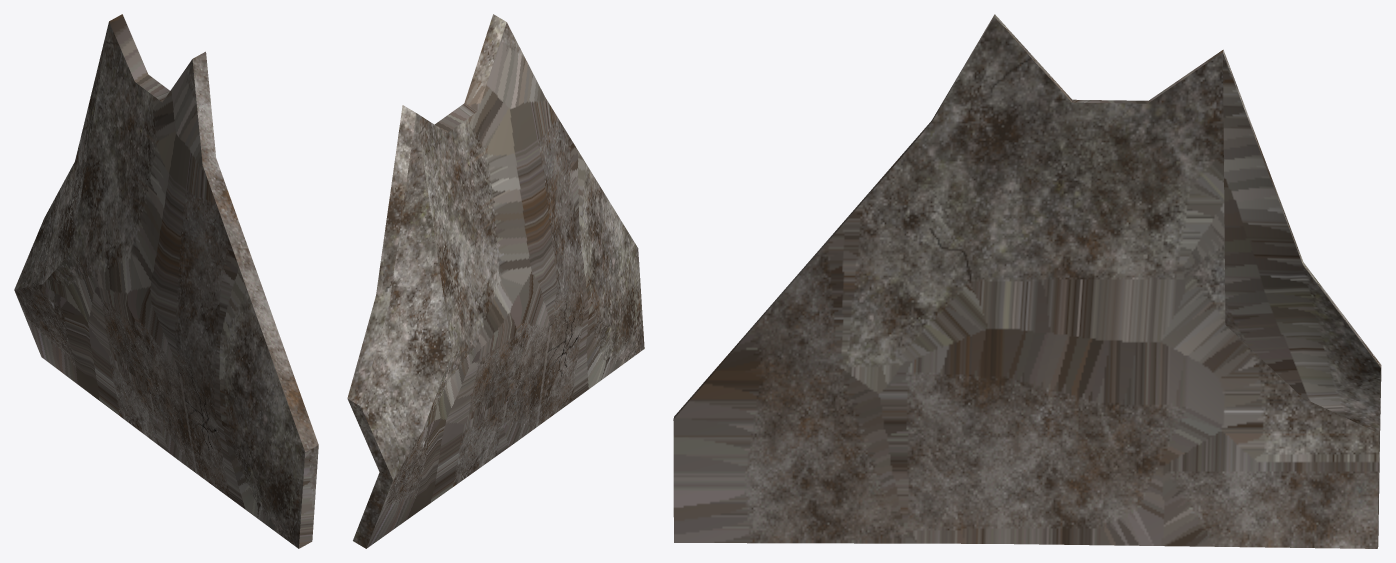
File: RuinaEdificio1.obj
3 views of the same model, side by side, from view 1: azimuth 30°, elevation 25°; view 2: azimuth 150°, elevation 25°; view 3: azimuth 270°, elevation 25° (orthographic). The views are drawn at different scales.
Parts seen in each view (by area): view 1: RuinaEdificio1; view 2: RuinaEdificio1; view 3: RuinaEdificio1.
Part boxes in pixels (x1,y1,x2,y2): RuinaEdificio1: (14,14,318,548); RuinaEdificio1: (347,14,644,548); RuinaEdificio1: (673,14,1381,548).
Size of the model in its own units: 7.53 by 56.89 by 67.23.
